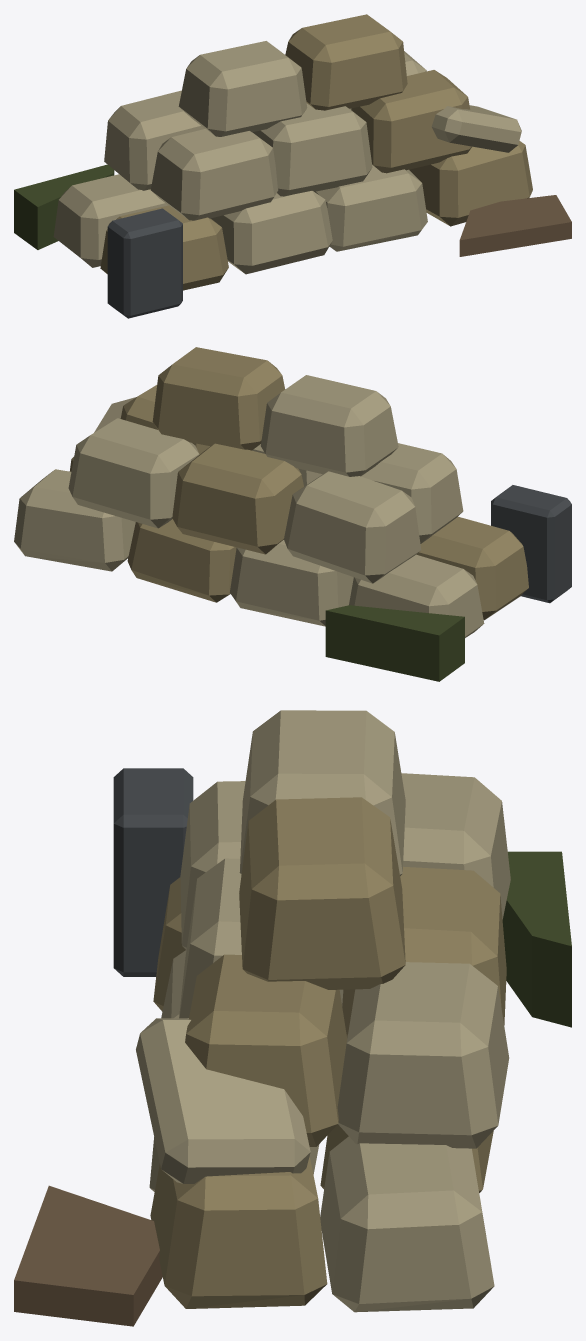
Rendered from cover_low_sandbags.glb.
3 renders of one model, top to bottom at view 1: azimuth 30°, elevation 25°; view 2: azimuth 150°, elevation 25°; view 3: azimuth 270°, elevation 25°, orthographic. The views are drawn at different scales.
Parts seen in each view (by area): view 1: cover_mesh; view 2: cover_mesh; view 3: cover_mesh.
Boxes of the visible parts, x1,y1,x2,y2 form: cover_mesh: (14, 14, 571, 318); cover_mesh: (14, 347, 571, 681); cover_mesh: (14, 710, 571, 1326).
Bounding box in the file's own units: 1.9 × 0.7784 × 1.12.
